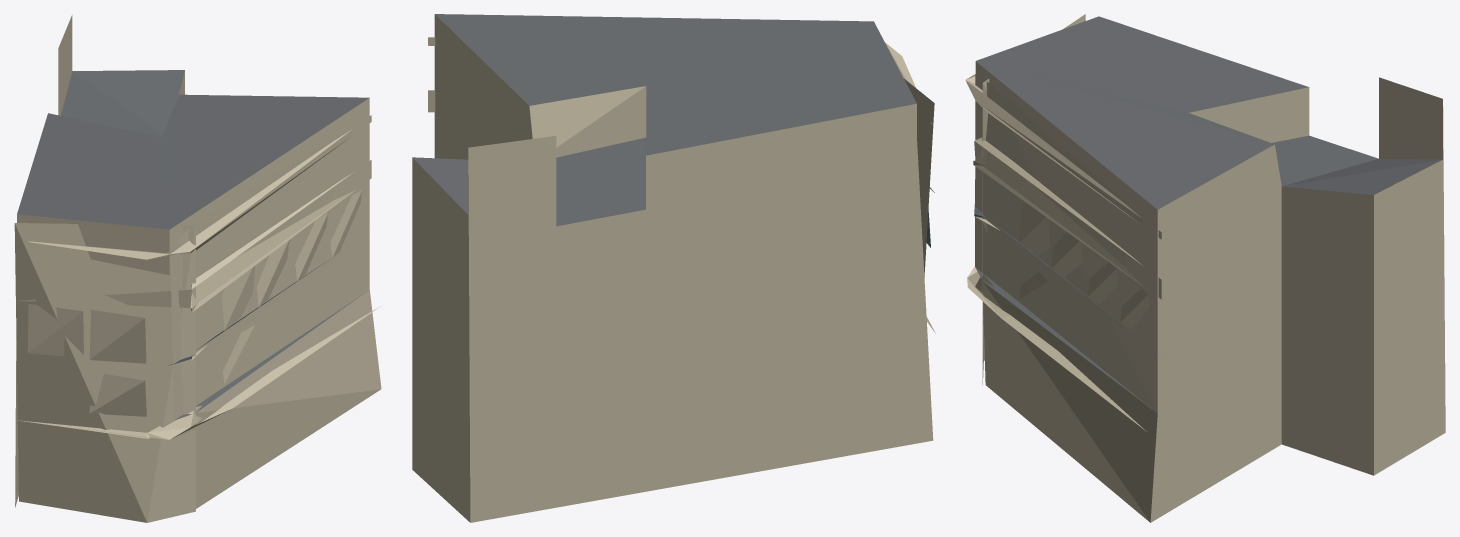
The model's file is broekmans-koningsplein.lod2.glb.
3 renders of one model, left to right at view 1: azimuth 30°, elevation 25°; view 2: azimuth 150°, elevation 25°; view 3: azimuth 270°, elevation 25°, orthographic. The views are drawn at different scales.
Visible parts, largest first — view 1: lod2; view 2: lod2; view 3: lod2.
Part boxes in pixels (box(x1,y1,x2,y2)): lod2: box(14, 15, 381, 522); lod2: box(412, 14, 935, 522); lod2: box(965, 14, 1445, 522).
Bounding box in the file's own units: 26.72 × 20.19 × 26.21.
